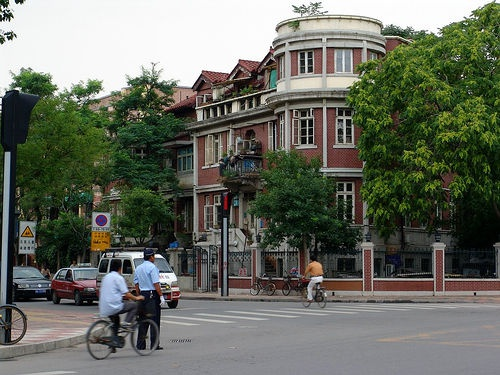non-vehicle: (86, 316, 156, 361), (0, 304, 28, 345), (299, 282, 327, 309), (280, 270, 302, 295), (249, 276, 275, 296)
